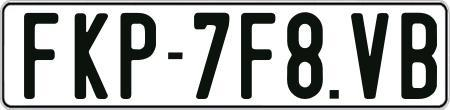7: (194, 10, 235, 96)
8: (284, 12, 322, 102)
B: (400, 13, 433, 103)
F: (23, 12, 63, 102), (238, 13, 277, 104)
K: (74, 10, 109, 101)
P: (119, 11, 156, 99)
V: (351, 10, 393, 98)
